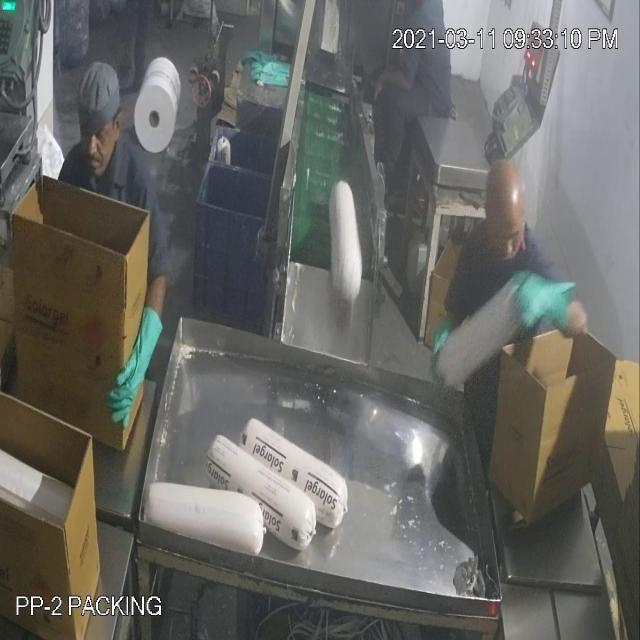Gloves: (56, 46, 392, 360)
